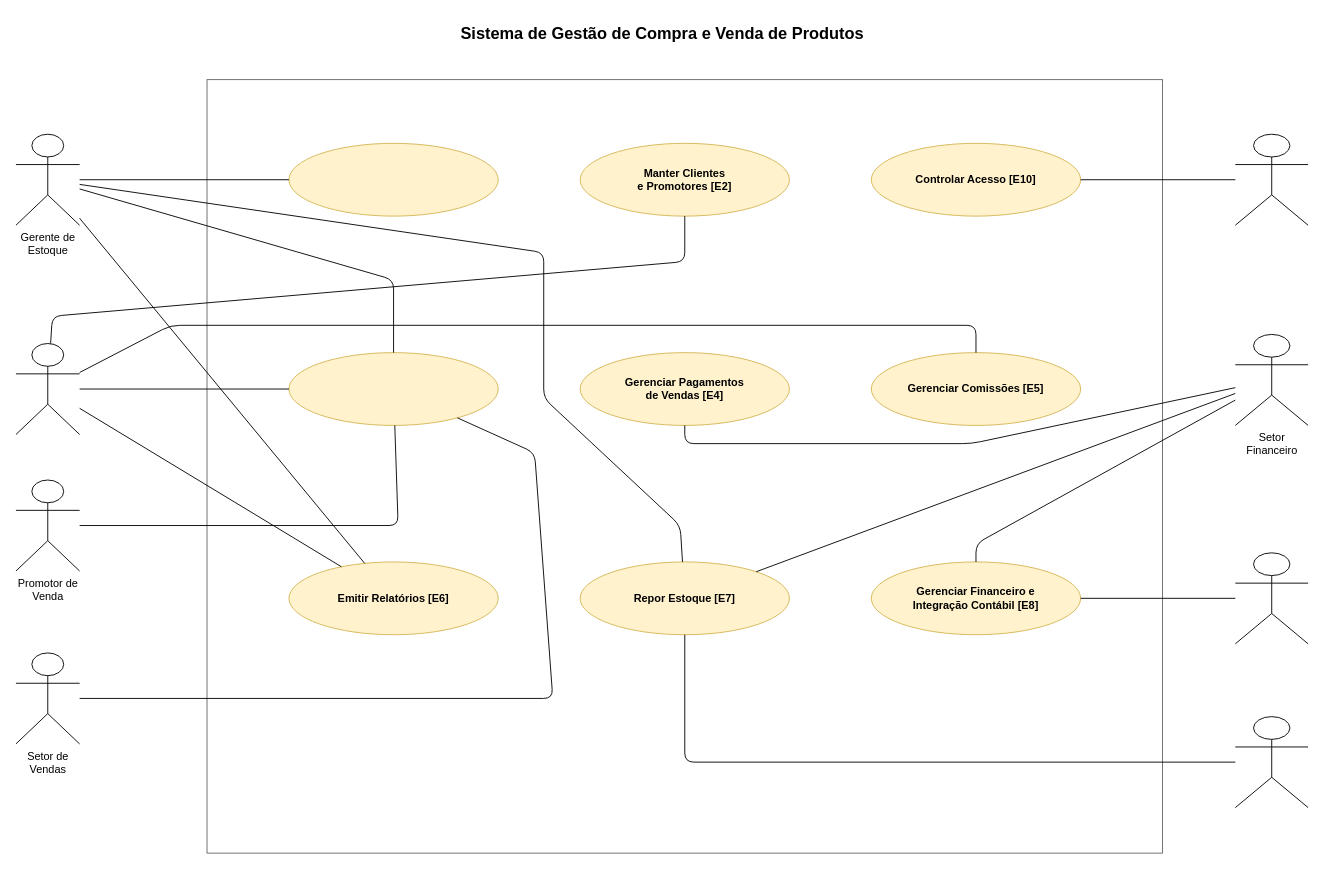
Image size: 1324x869. Some labels were removed from this diagram. Each missing label, with the box of its shape:
Administrador do Sistema: (1234, 133, 1308, 225)
Fornecedor: (1234, 716, 1308, 808)
Gerenciar Pedidos e Vendas [E3]: (288, 352, 498, 425)
Gerente de Vendas: (15, 343, 80, 435)
Manter Produtos e Categorias [E1]: (288, 142, 498, 216)
Setor de Contabilidade: (1234, 552, 1308, 644)
